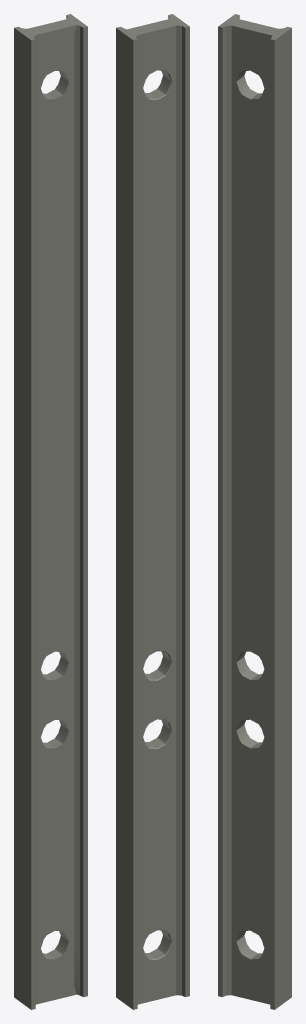
The model's file is metal_rod_med_02.fbx.
3 renders of one model, left to right at view 1: azimuth 30°, elevation 25°; view 2: azimuth 210°, elevation 25°; view 3: azimuth 330°, elevation 25°, orthographic.
Parts seen in each view (by area): view 1: metal_rod_med_02; view 2: metal_rod_med_02; view 3: metal_rod_med_02.
Boxes of the visible parts, x1,y1,x2,y2 form: metal_rod_med_02: [14, 14, 87, 1009]; metal_rod_med_02: [116, 14, 189, 1009]; metal_rod_med_02: [218, 14, 291, 1009].
Bounding box in the file's own units: 21.05 × 345 × 11.05.
